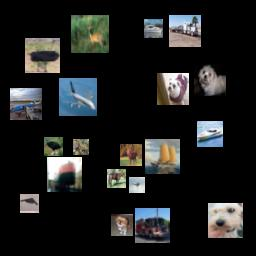airplane: (59, 78, 97, 116), (10, 88, 42, 120), (20, 194, 39, 213), (129, 177, 145, 193)
bird: (25, 38, 60, 73), (44, 137, 63, 156)
deer: (71, 15, 109, 53), (120, 144, 142, 166)
dog: (208, 203, 243, 238), (157, 73, 189, 105), (194, 64, 226, 96), (111, 214, 133, 236)
frog: (73, 139, 89, 155)
ship: (145, 139, 180, 174), (47, 157, 82, 192), (197, 121, 223, 147), (144, 19, 163, 38)
truck: (135, 208, 170, 243), (169, 15, 201, 47)
